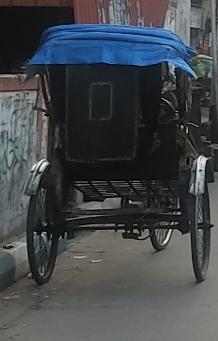Auto: (21, 21, 212, 288)
